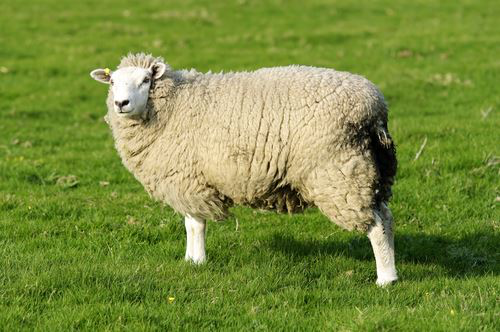koyun: (89, 52, 401, 285)
